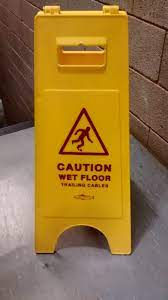wet caution sign: (30, 4, 138, 262)
